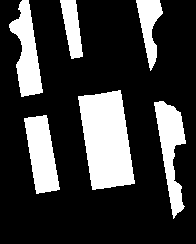parkingspot: (154, 101, 185, 218), (98, 90, 134, 186), (78, 94, 114, 189), (9, 0, 42, 96), (24, 115, 59, 193), (136, 0, 162, 70), (60, 0, 82, 58)
